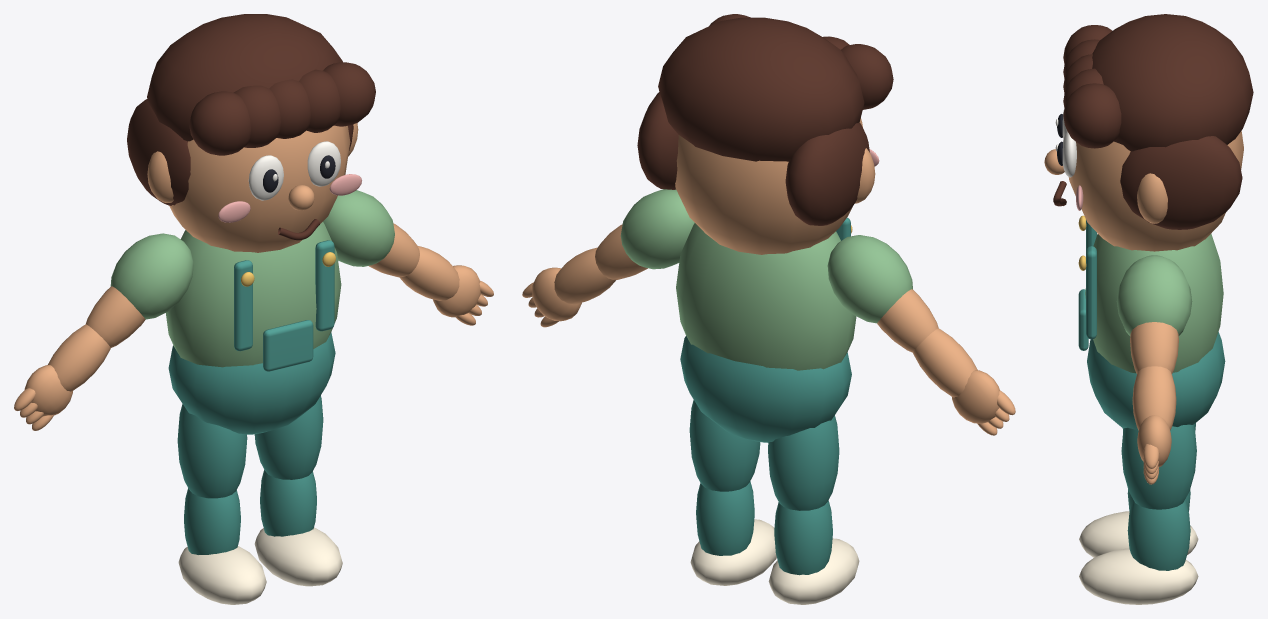
The model's file is daddy-dance.glb.
3 renders of one model, left to right at view 1: azimuth 30°, elevation 25°; view 2: azimuth 150°, elevation 25°; view 3: azimuth 270°, elevation 25°, orthographic. The views are drawn at different scales.
Visible parts, largest first — view 1: soft shirt, hair cap, clay head, overalls, shirt sleeve, trouser leg, shirt sleeve.001, little shoe.001, little shoe, bob hair, trouser leg.001, fringe (+18 smaller); view 2: hair cap, soft shirt, clay head, overalls, bob hair, shirt sleeve, trouser leg, shirt sleeve.001, trouser leg.001, lower leg.001, lower leg, little shoe (+9 smaller); view 3: hair cap, soft shirt, bob hair.001, clay head, overalls, shirt sleeve.001, little shoe.001, trouser leg.001, lower leg.001, fringe.004, forearm.001, upper arm.001 (+12 smaller).
Part boxes in pixels (x1=…): soft shirt: x1=166, y1=222, x2=341, y2=367; hair cap: x1=147, y1=14, x2=342, y2=141; clay head: x1=169, y1=125, x2=350, y2=252; overalls: x1=168, y1=332, x2=335, y2=434; shirt sleeve: x1=110, y1=233, x2=193, y2=319; trouser leg: x1=177, y1=404, x2=247, y2=498; shirt sleeve.001: x1=323, y1=190, x2=394, y2=266; little shoe.001: x1=254, y1=527, x2=342, y2=586; little shoe: x1=178, y1=546, x2=266, y2=604; bob hair: x1=127, y1=99, x2=190, y2=205; trouser leg.001: x1=254, y1=395, x2=323, y2=479; fringe: x1=189, y1=91, x2=250, y2=155; hair cap: x1=658, y1=17, x2=864, y2=161; soft shirt: x1=676, y1=223, x2=856, y2=370; clay head: x1=675, y1=118, x2=862, y2=254; overalls: x1=680, y1=336, x2=851, y2=442; bob hair: x1=785, y1=122, x2=869, y2=225; shirt sleeve: x1=827, y1=235, x2=912, y2=323; trouser leg: x1=768, y1=415, x2=839, y2=510; shirt sleeve.001: x1=620, y1=189, x2=694, y2=269; trouser leg.001: x1=689, y1=400, x2=760, y2=491; lower leg.001: x1=696, y1=481, x2=754, y2=555; lower leg: x1=774, y1=500, x2=832, y2=575; little shoe: x1=768, y1=538, x2=859, y2=604; hair cap: x1=1092, y1=14, x2=1253, y2=151; soft shirt: x1=1085, y1=234, x2=1223, y2=373; bob hair.001: x1=1120, y1=136, x2=1242, y2=229; clay head: x1=1067, y1=131, x2=1243, y2=251; overalls: x1=1087, y1=332, x2=1225, y2=429; shirt sleeve.001: x1=1116, y1=255, x2=1192, y2=335; little shoe.001: x1=1079, y1=548, x2=1198, y2=604; trouser leg.001: x1=1121, y1=424, x2=1196, y2=509; lower leg.001: x1=1127, y1=499, x2=1190, y2=570; fringe.004: x1=1063, y1=83, x2=1121, y2=148; forearm.001: x1=1132, y1=366, x2=1176, y2=430; upper arm.001: x1=1130, y1=322, x2=1178, y2=373.
Size of the model in its own units: 1.94 by 2.14 by 0.7315.
